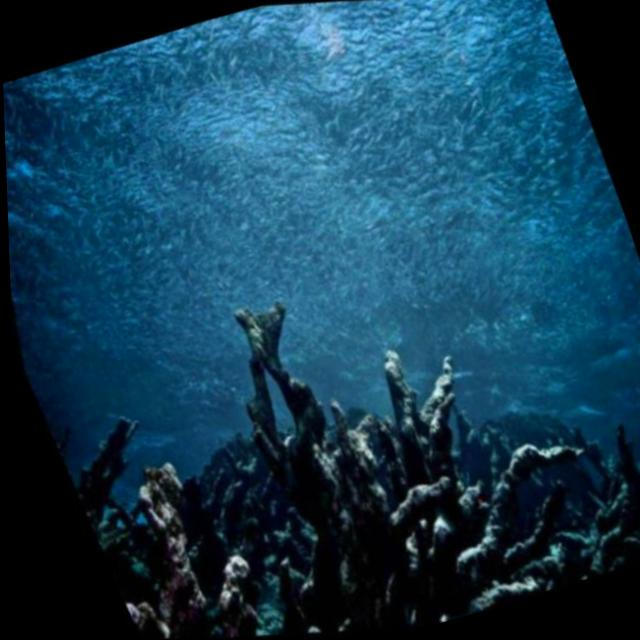Dead Coral: (4, 132, 640, 640)
